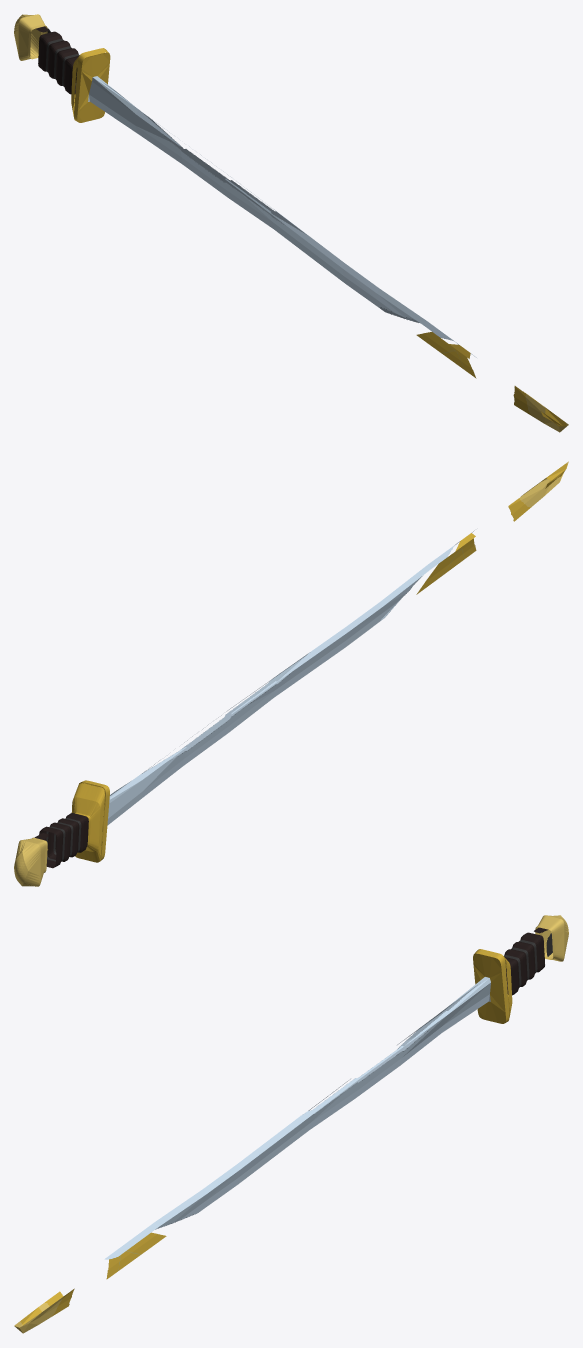
Rendered from sabreHeavy.obj.
The picture shows the model from 3 angles, top to bottom: view 1: azimuth 30°, elevation 25°; view 2: azimuth 150°, elevation 25°; view 3: azimuth 330°, elevation 25°; orthographic projection.
Visible parts, largest first — view 1: testHeavyMelee; view 2: testHeavyMelee; view 3: testHeavyMelee.
Part boxes in pixels (box(x1,y1,x2,y2)): testHeavyMelee: box(14, 14, 568, 432); testHeavyMelee: box(14, 461, 568, 886); testHeavyMelee: box(14, 915, 568, 1333).
Size of the model in its own units: 0.0714 by 0.174 by 2.41.
